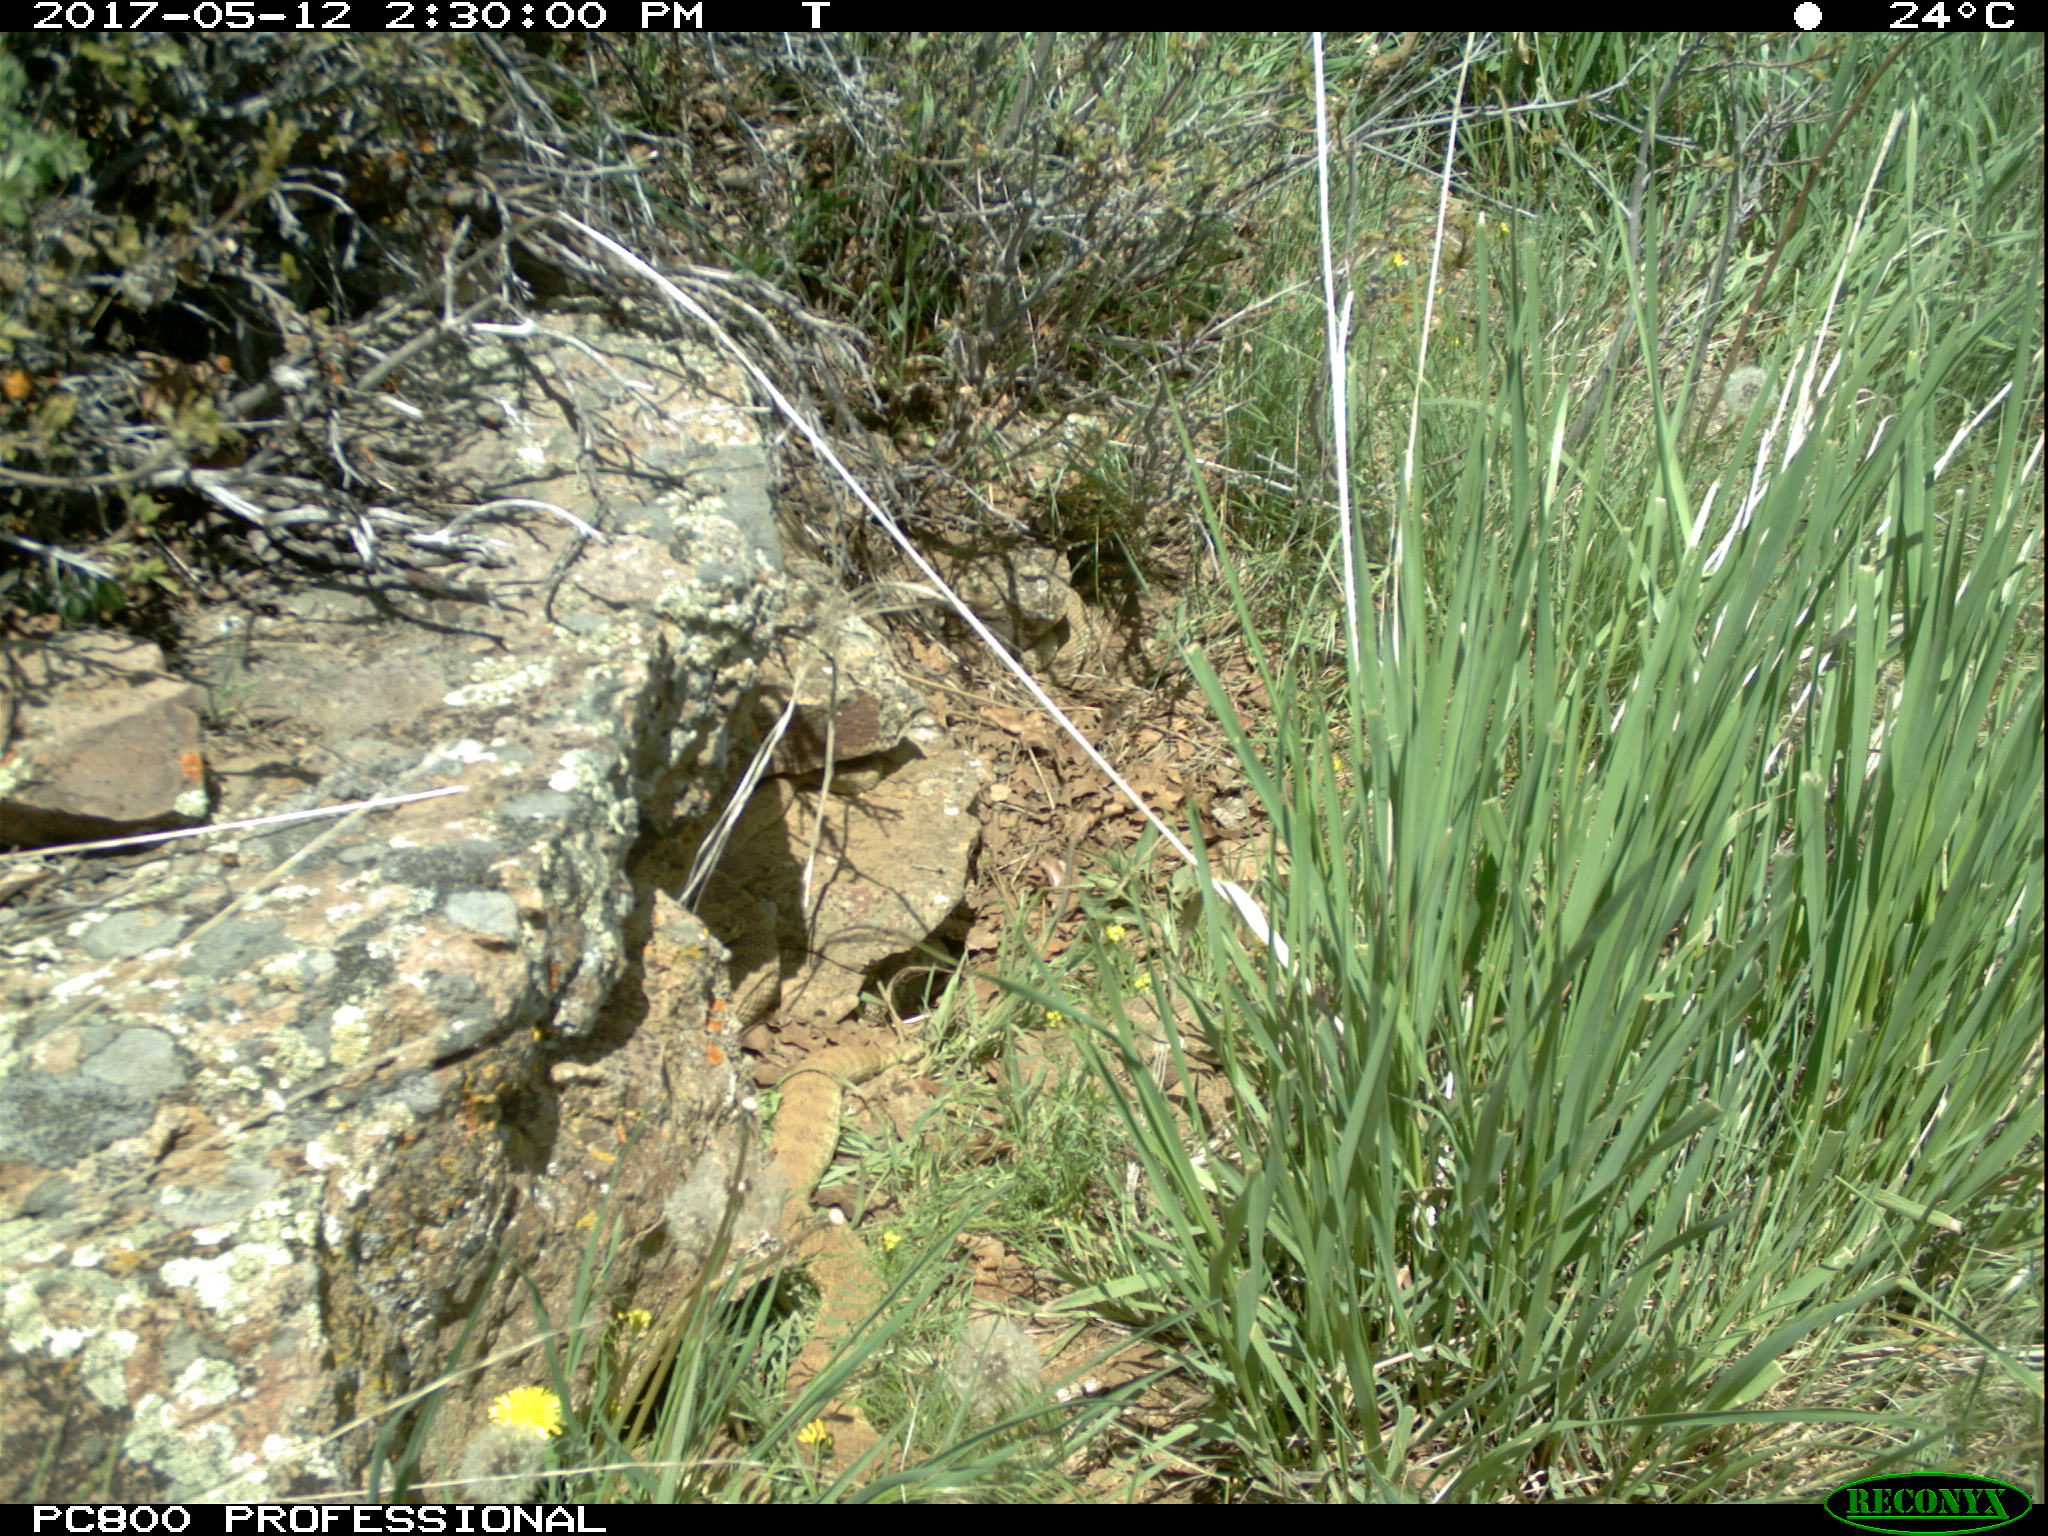snake: (764, 1033, 895, 1494), (1035, 592, 1114, 703)
